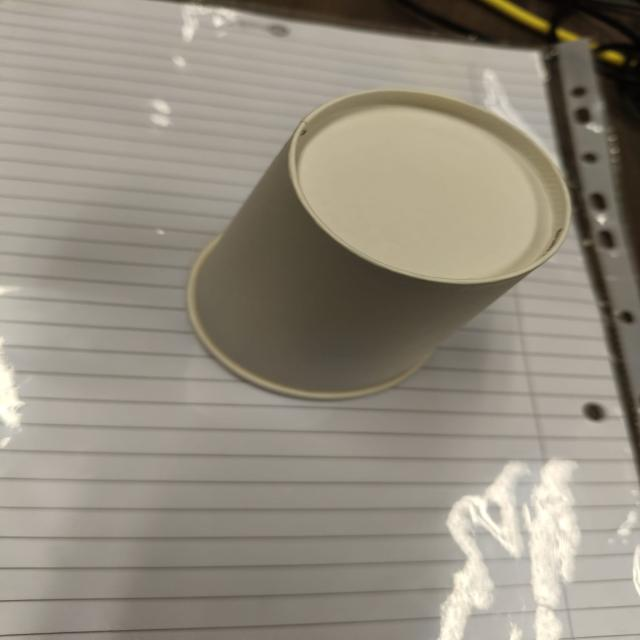Whitecup: (179, 82, 582, 410)
